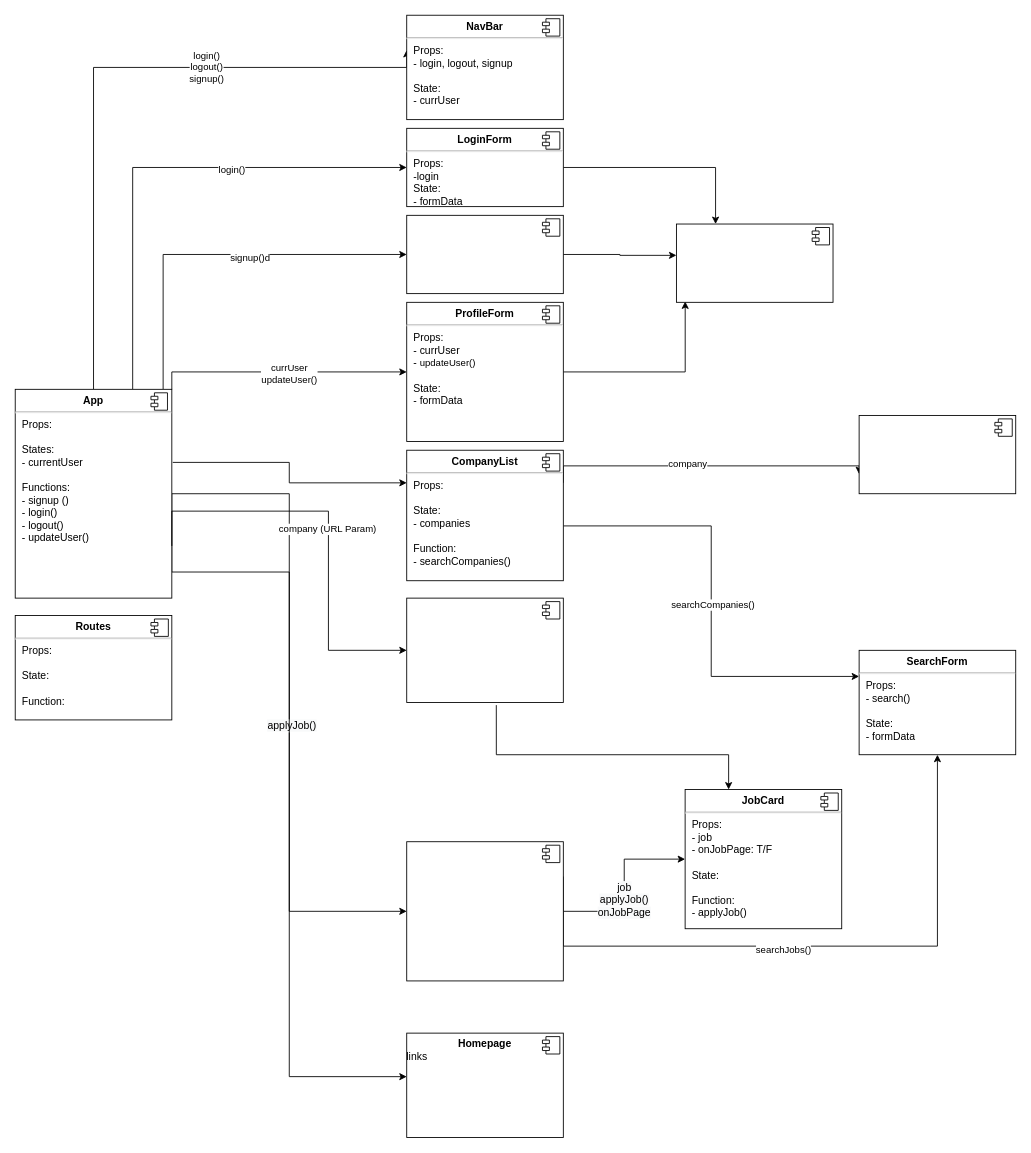
Image size: 1031x1153. Some labels were removed from this diagram. The centre of each missing label's shape, as x and y in pixels:
Alert validation msgs: [754,262]
CompanyCard Props: - company: [937,454]
CompanyJobsList Params: - Company Props:: [484,650]
JobsList Props: - applyJob() State: - jobs Function: - searchJobs(): [484,911]
SignupForm Props: -signup State: - formData: [484,254]
